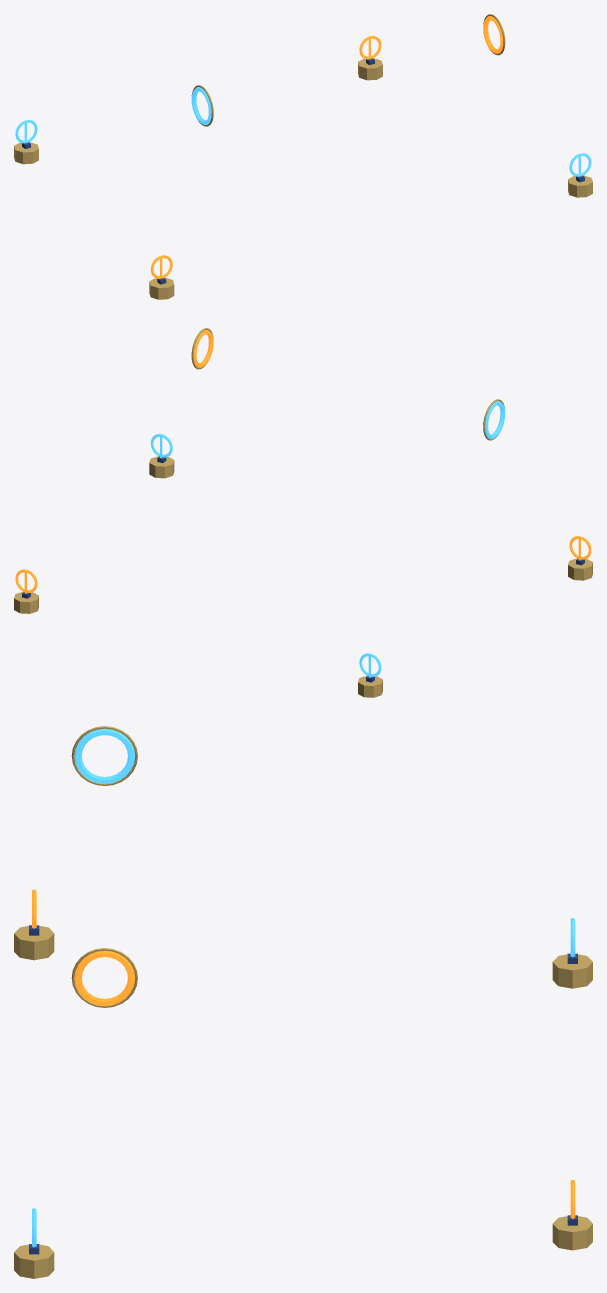
Rendered from 07_beacons_portals.glb.
3 views of the same model, one above another, from view 1: azimuth 30°, elevation 25°; view 2: azimuth 150°, elevation 25°; view 3: azimuth 270°, elevation 25° (orthographic). The views are drawn at different scales.
Visible parts, largest first — view 1: sandstorm_beacon_pedestal_nocol_noshadow, sandstorm_beacon_halo_cyanrune_nocol_noshadow, sandstorm_beacon_halo_amberrune_nocol_noshadow; view 2: sandstorm_beacon_pedestal_nocol_noshadow; view 3: sandstorm_beacon_pedestal_nocol_noshadow, sandstorm_portal_morning_nocol_noshadow, sandstorm_portal_evening_nocol_noshadow, sandstorm_portal_frame_nocol_noshadow.
Part boxes in pixels (x1=…): sandstorm_beacon_pedestal_nocol_noshadow: x1=14, y1=58, x2=592, y2=299; sandstorm_beacon_halo_cyanrune_nocol_noshadow: x1=15, y1=119, x2=591, y2=176; sandstorm_beacon_halo_amberrune_nocol_noshadow: x1=150, y1=36, x2=381, y2=278; sandstorm_beacon_pedestal_nocol_noshadow: x1=14, y1=456, x2=592, y2=697; sandstorm_beacon_pedestal_nocol_noshadow: x1=14, y1=925, x2=592, y2=1278; sandstorm_portal_morning_nocol_noshadow: x1=74, y1=950, x2=135, y2=1005; sandstorm_portal_evening_nocol_noshadow: x1=74, y1=728, x2=135, y2=783; sandstorm_portal_frame_nocol_noshadow: x1=71, y1=726, x2=137, y2=1007.
Size of the model in its own units: 236 by 89.85 by 172.
